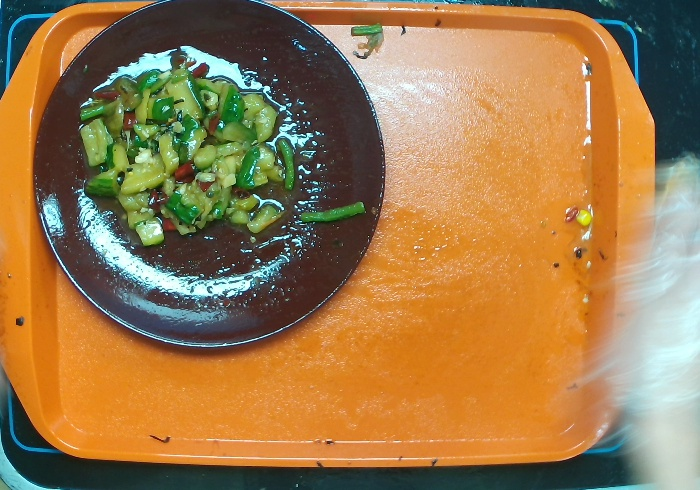HZYJPL-Ka_Fei_Yuan_Pan: (25, 1, 393, 354)
